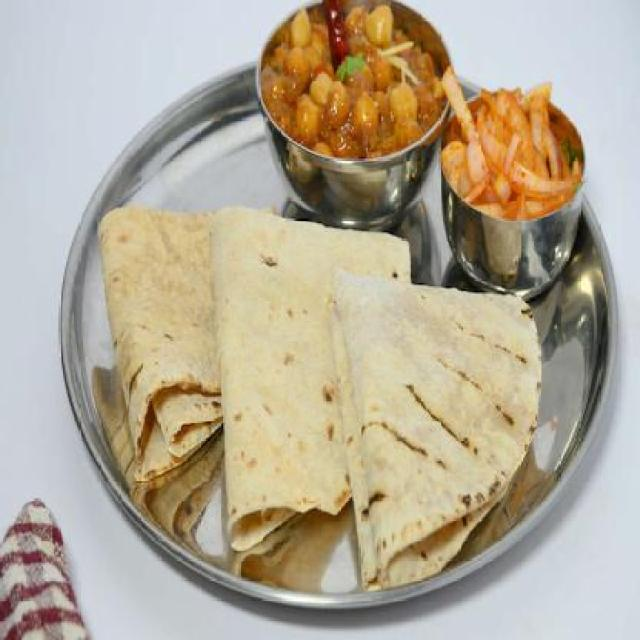chapati: (328, 272, 543, 591), (212, 208, 411, 548), (97, 206, 217, 483)
